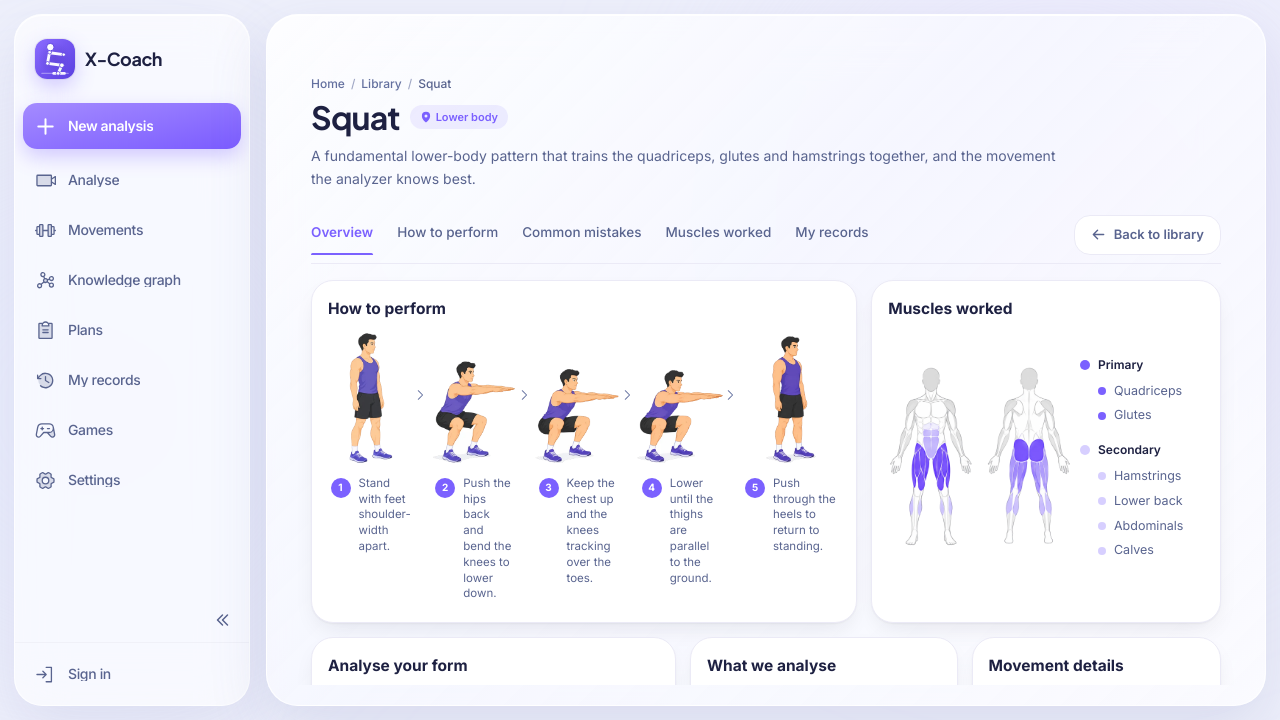
Test: MovementDetail — common mistakes › shows the paper even when the graph traversal fails
Step 1. Click the tab "Common mistakes" → click(582, 239), box x1=522 y1=222 x2=642 y2=255
(page scrolled)
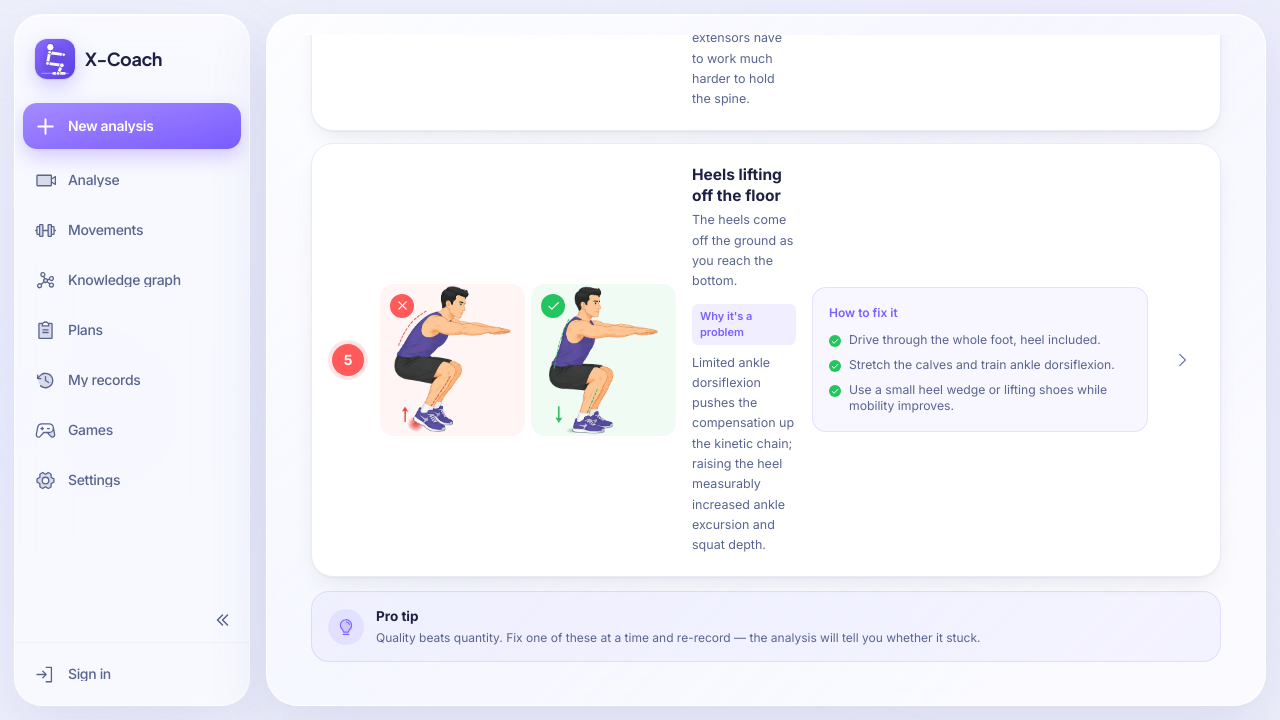
Step 2. Click the button named "Heels lifting off the floor" → click(1182, 360), box x1=1164 y1=342 x2=1200 y2=378
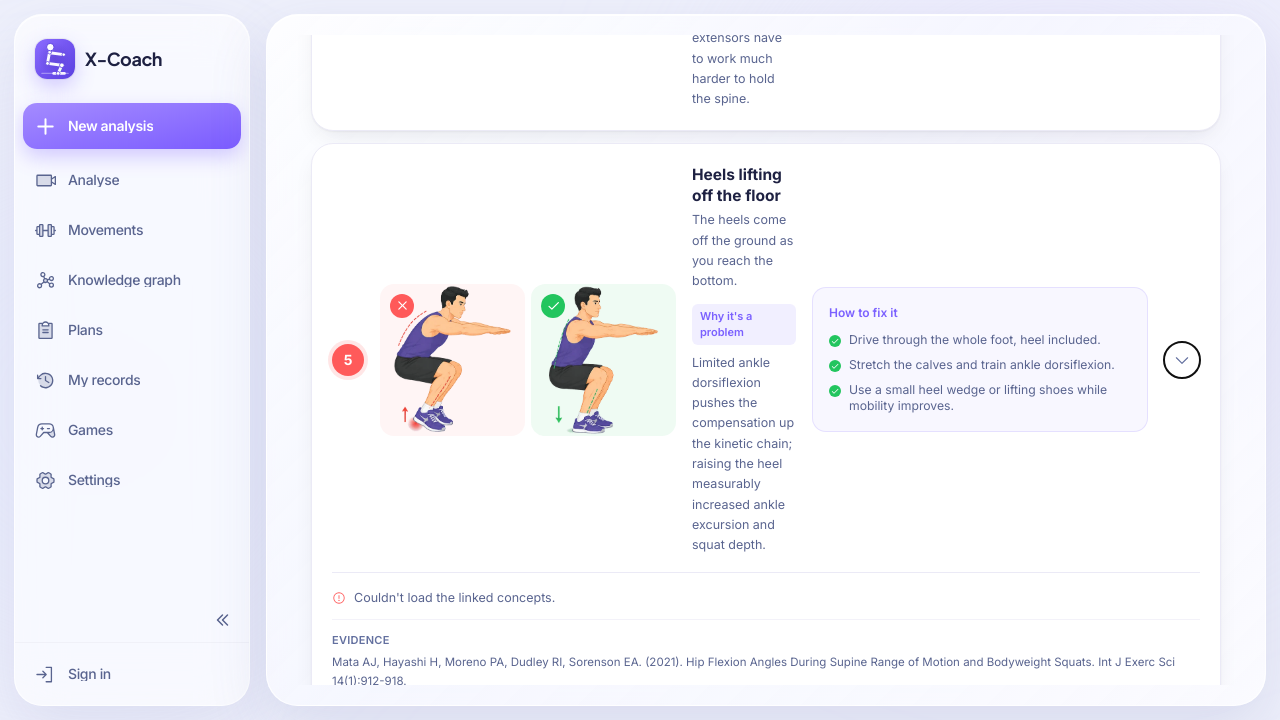
Result: the text "Couldn't load the linked concepts." is shown at x1=332 y1=590 x2=555 y2=605
Result: the text with test id "mistake-citation" shows "Mata AJ" at x1=332 y1=655 x2=1175 y2=685
